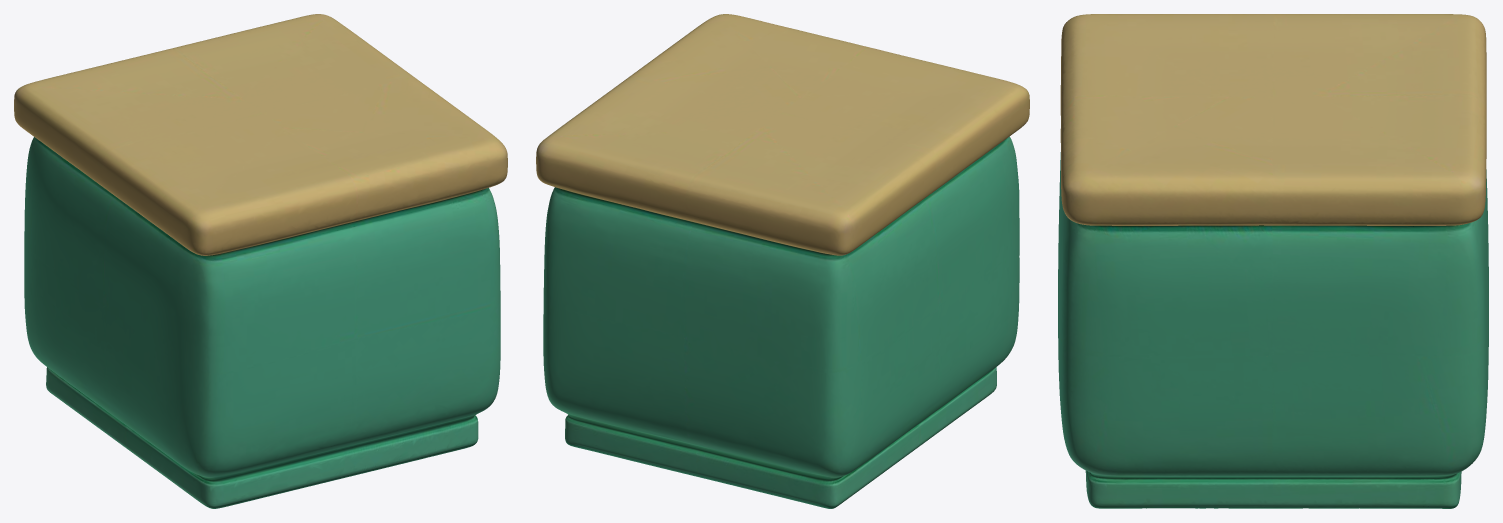
The model's file is Mod_Counter.glb.
The picture shows the model from 3 angles, left to right: view 1: azimuth 30°, elevation 25°; view 2: azimuth 150°, elevation 25°; view 3: azimuth 270°, elevation 25°; orthographic projection. The views are drawn at different scales.
Parts seen in each view (by area): view 1: tripo_node_54917e8f-9359-4277-8102-680a2a318064; view 2: tripo_node_54917e8f-9359-4277-8102-680a2a318064; view 3: tripo_node_54917e8f-9359-4277-8102-680a2a318064.
Boxes of the visible parts, x1=… form: tripo_node_54917e8f-9359-4277-8102-680a2a318064: x1=14, y1=14, x2=507, y2=508; tripo_node_54917e8f-9359-4277-8102-680a2a318064: x1=536, y1=14, x2=1029, y2=508; tripo_node_54917e8f-9359-4277-8102-680a2a318064: x1=1058, y1=14, x2=1488, y2=508.
Bounding box in the file's own units: 0.9575 × 0.8834 × 1.
1 material, 1 textured.
